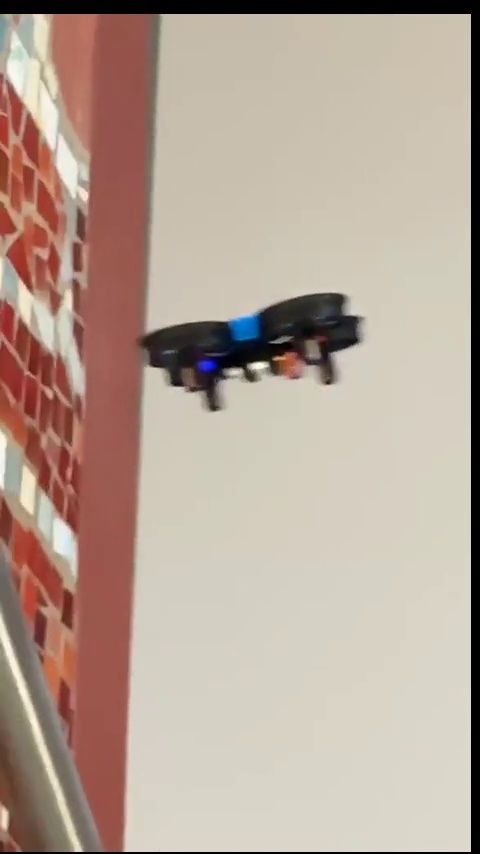drone: (140, 290, 367, 403)
